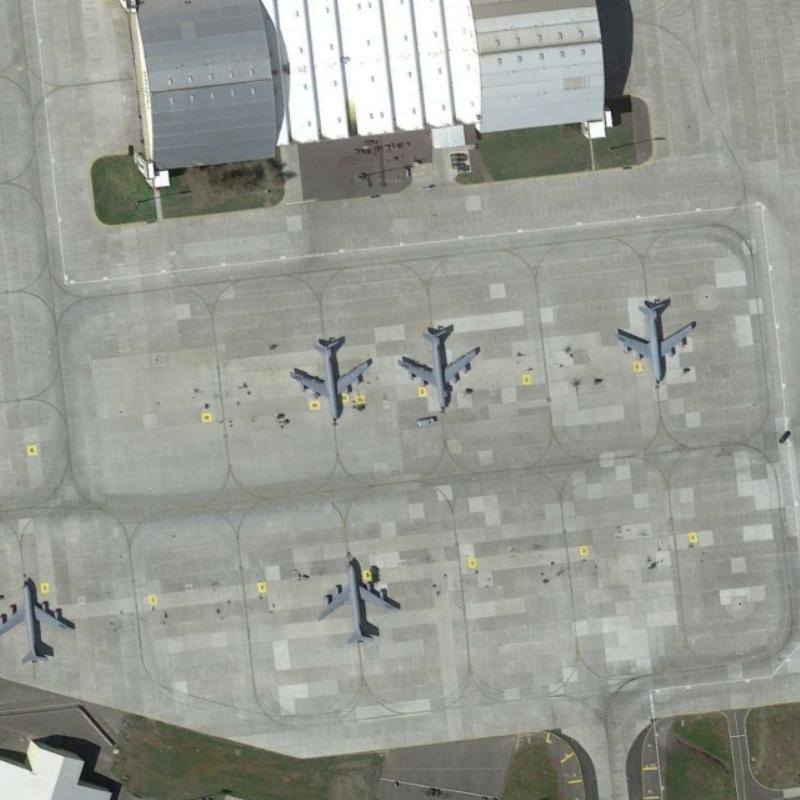A14: (281, 327, 382, 427), (392, 317, 492, 415), (610, 283, 700, 390), (311, 549, 404, 649), (0, 575, 83, 671)
